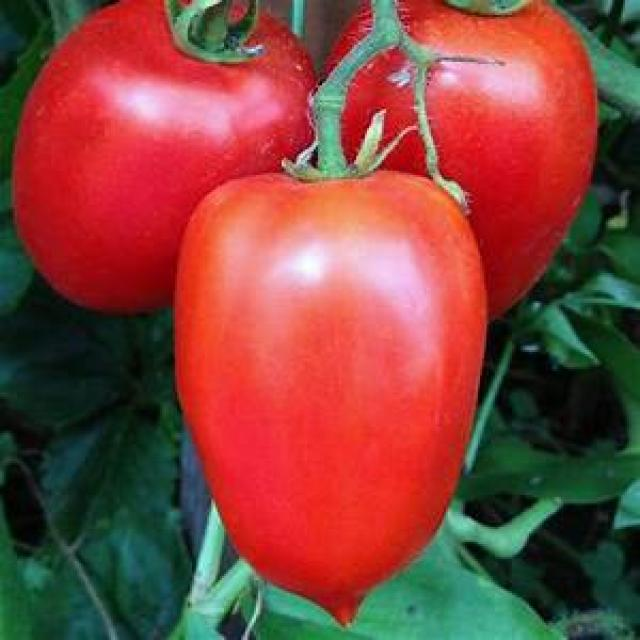Fresh_tomato: (196, 157, 467, 618), (344, 2, 578, 306), (61, 11, 302, 294)
